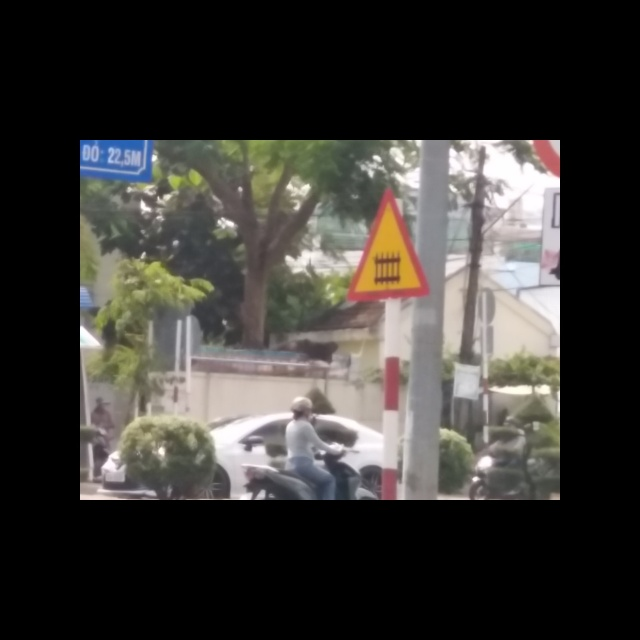Giao nhau với đường sắt có rào chắn: (344, 190, 434, 305)
